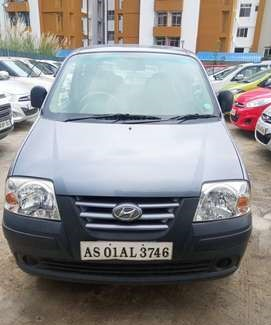AS01AL3746: (80, 240, 172, 261)
